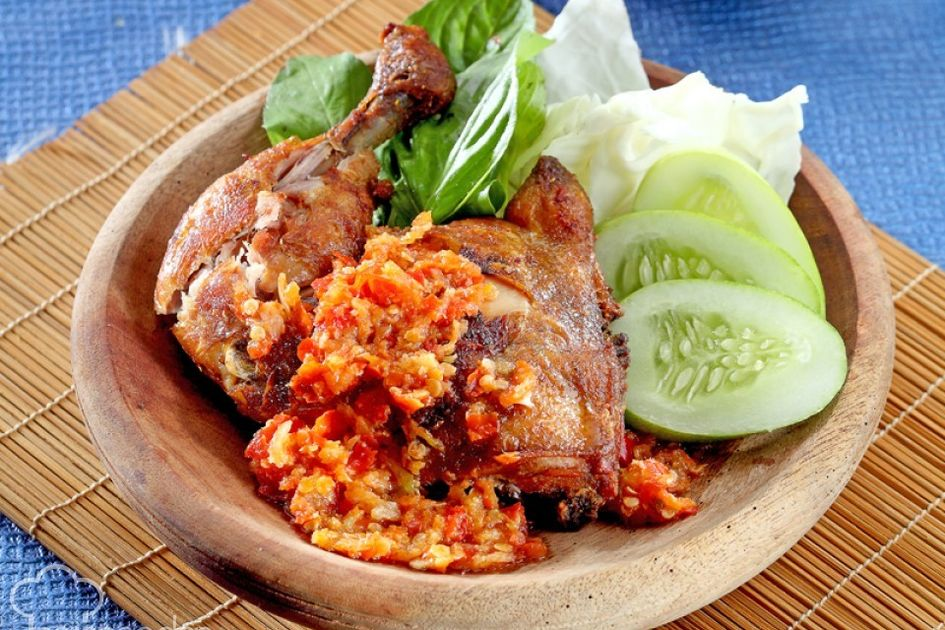ayam_geprek: (135, 55, 672, 551)
